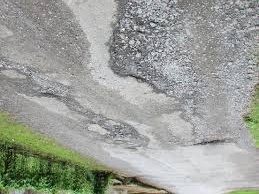pothole: (107, 0, 258, 154), (0, 65, 75, 105), (104, 120, 150, 147), (62, 105, 102, 123)
